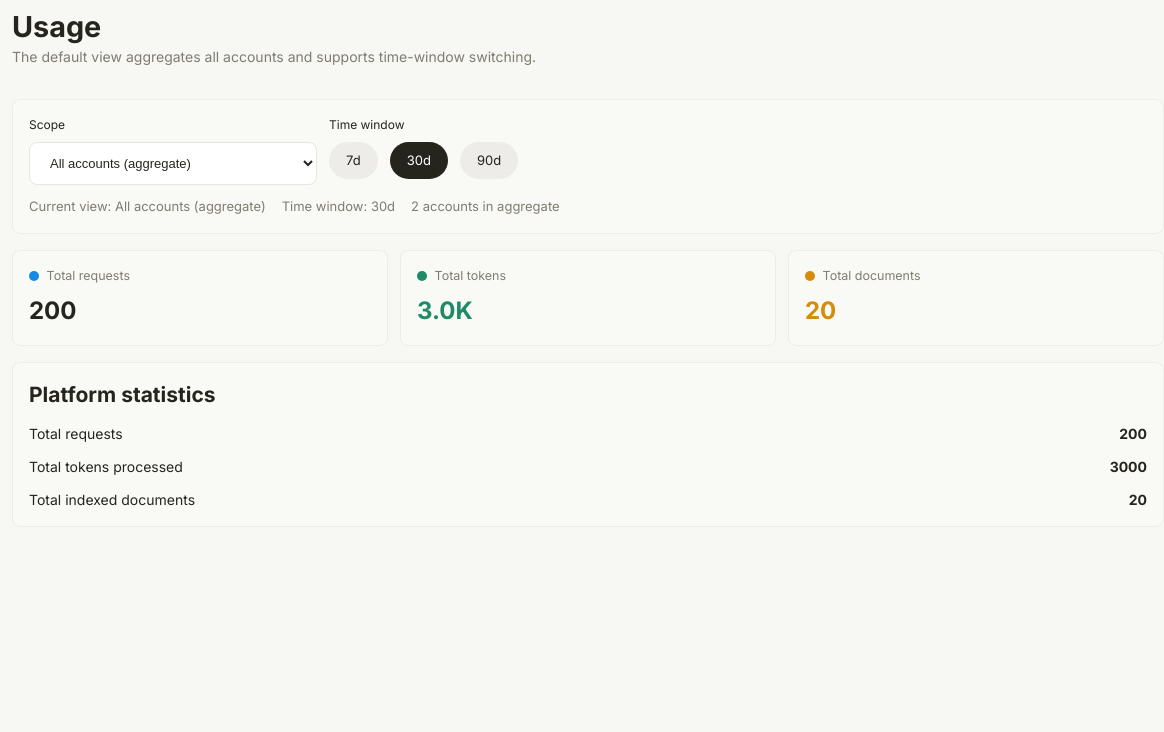
Test: admin surfaces › aggregates usage across accounts and reloads when the period changes
Expected: the heading "Platform statistics" is shown, top-left (29, 382), bottom-right (216, 408)
Expected: the text "200" next to "3.0K" is shown, top-left (29, 296), bottom-right (76, 326)
What coordinates should you click on to do the following:
click the button "7d"
I would click on:
 (353, 161)
Its box is top-left (329, 142), bottom-right (378, 179).
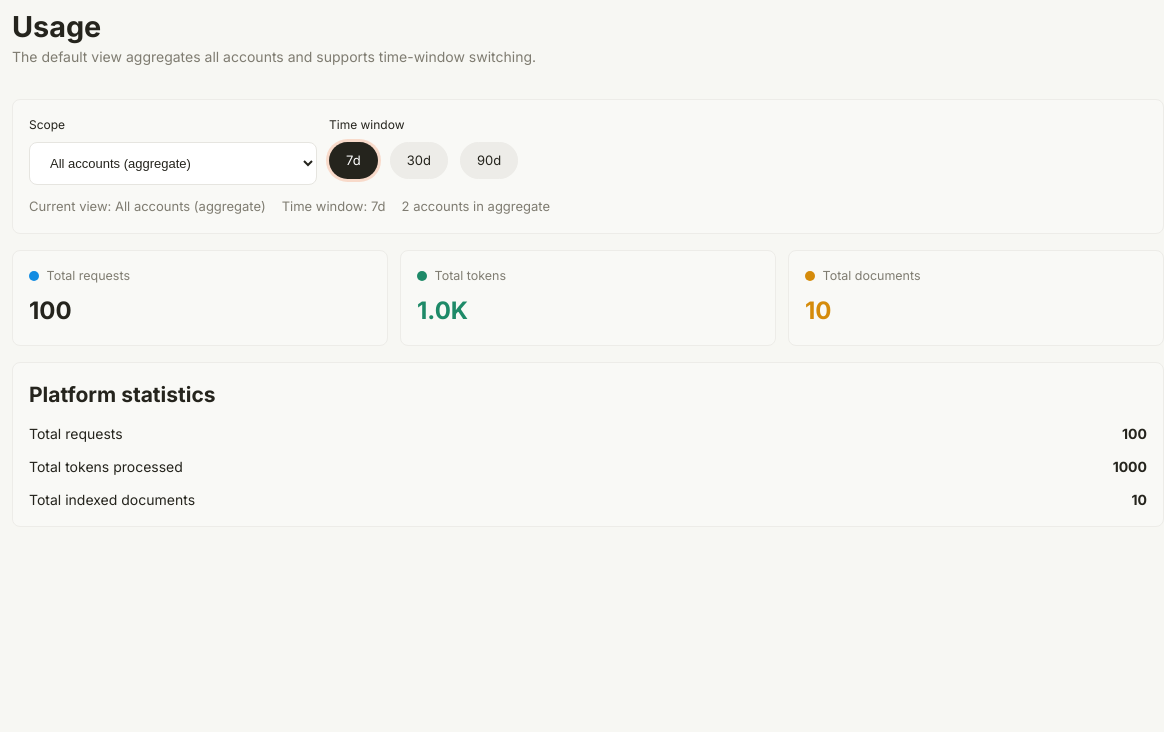
Expected: the text "100" next to "1.0K" is shown, top-left (29, 296), bottom-right (72, 326)
Expected: the text "1.0K" is shown, top-left (417, 296), bottom-right (468, 326)
